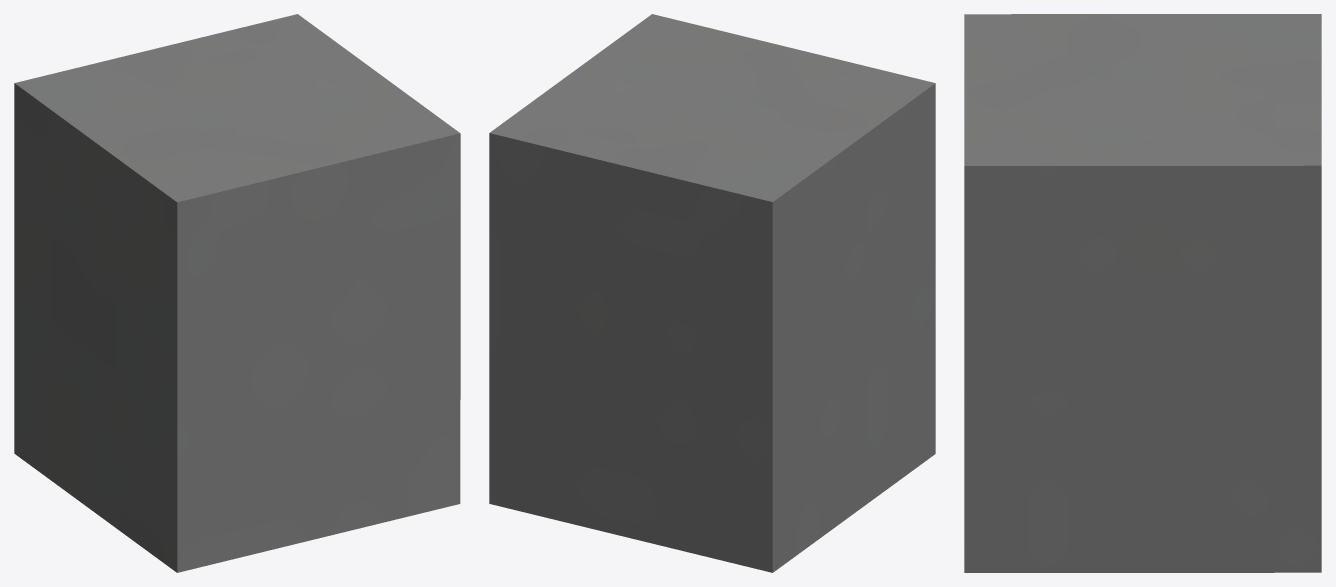
File: Stair_Platform_1.fbx
3 views of the same model, side by side, from view 1: azimuth 30°, elevation 25°; view 2: azimuth 150°, elevation 25°; view 3: azimuth 270°, elevation 25° (orthographic). The views are drawn at different scales.
Parts seen in each view (by area): view 1: Stair Platform 1; view 2: Stair Platform 1; view 3: Stair Platform 1.
Part boxes in pixels (x1,y1,x2,y2): Stair Platform 1: (14,14,460,572); Stair Platform 1: (489,14,935,572); Stair Platform 1: (964,14,1321,572).
Bounding box in the file's own units: 100 × 125 × 99.5.
